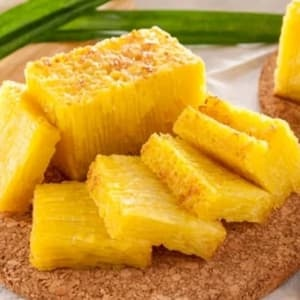bika_ambon: (5, 55, 280, 269), (23, 94, 298, 272)
